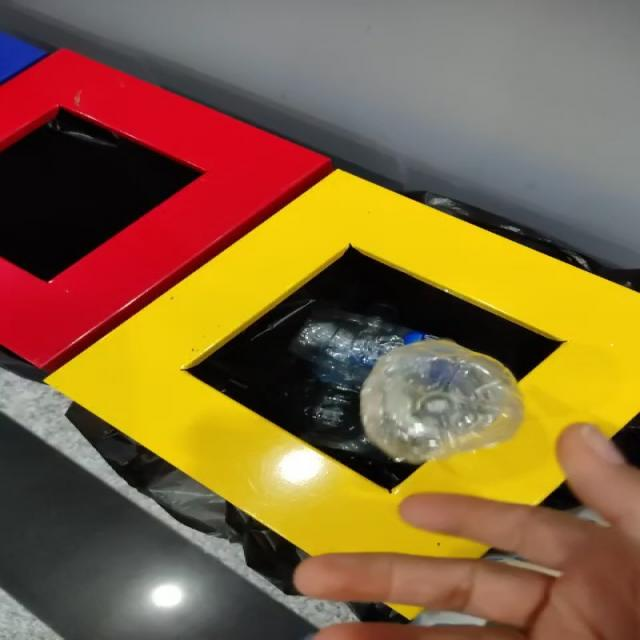plastic: (360, 340, 524, 464)
